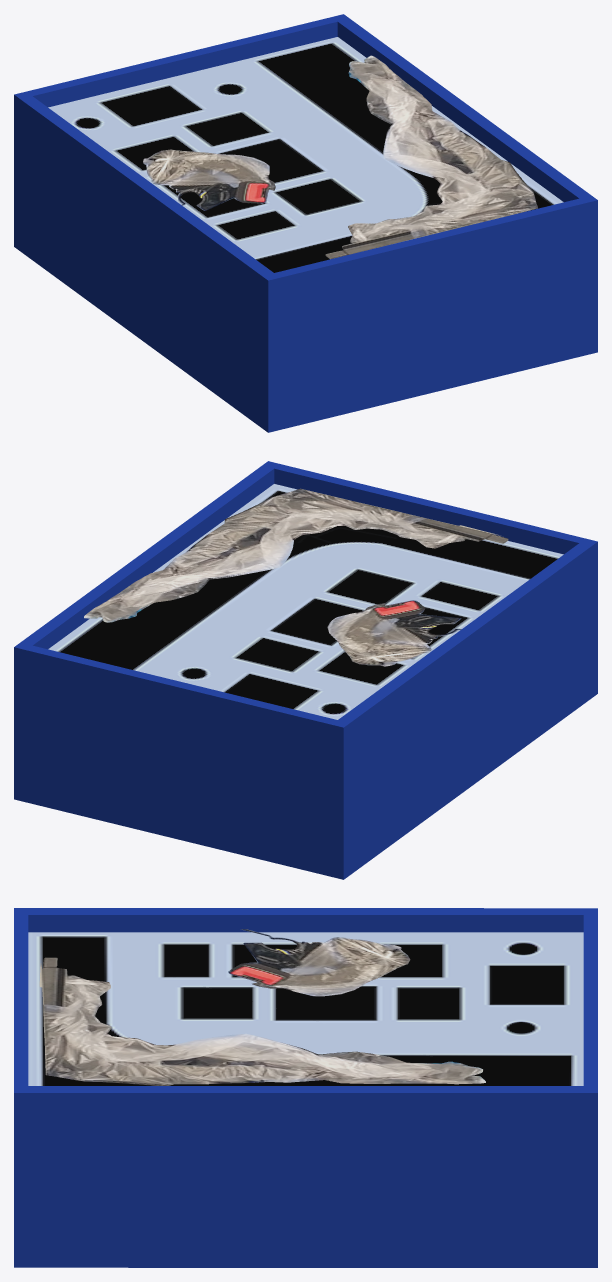
The model's file is ChuWuHe06.FBX.
3 views of the same model, one above another, from view 1: azimuth 30°, elevation 25°; view 2: azimuth 150°, elevation 25°; view 3: azimuth 270°, elevation 25° (orthographic). The views are drawn at different scales.
Parts seen in each view (by area): view 1: YF_Model_ChuWuHe06; view 2: YF_Model_ChuWuHe06; view 3: YF_Model_ChuWuHe06.
Boxes of the visible parts, left/top/right/bottom form: YF_Model_ChuWuHe06: left=14, top=14, right=597, bottom=432; YF_Model_ChuWuHe06: left=14, top=461, right=597, bottom=879; YF_Model_ChuWuHe06: left=14, top=908, right=597, bottom=1267.
Size of the model in its own units: 44.35 by 18.41 by 55.72.
